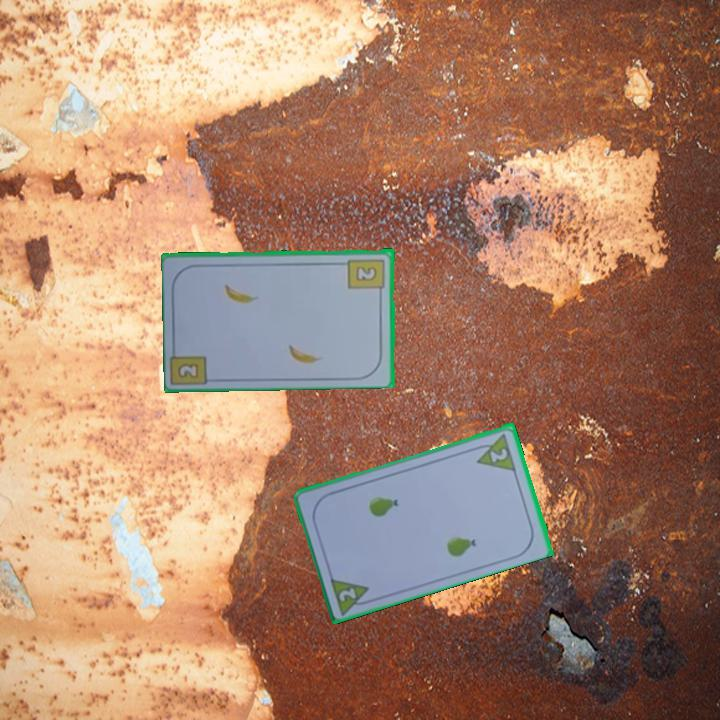2b: (345, 255, 388, 297), (177, 361, 200, 379)
2p: (470, 429, 519, 473), (335, 584, 360, 604)
